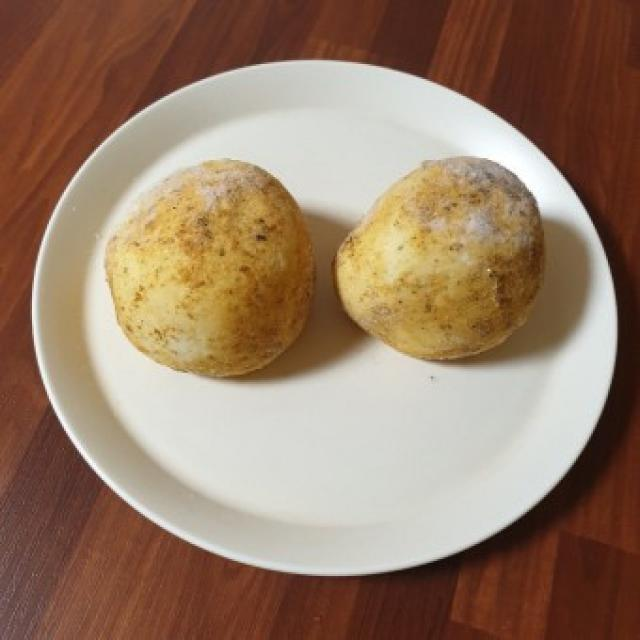potato: (106, 154, 320, 376), (330, 152, 552, 362)
